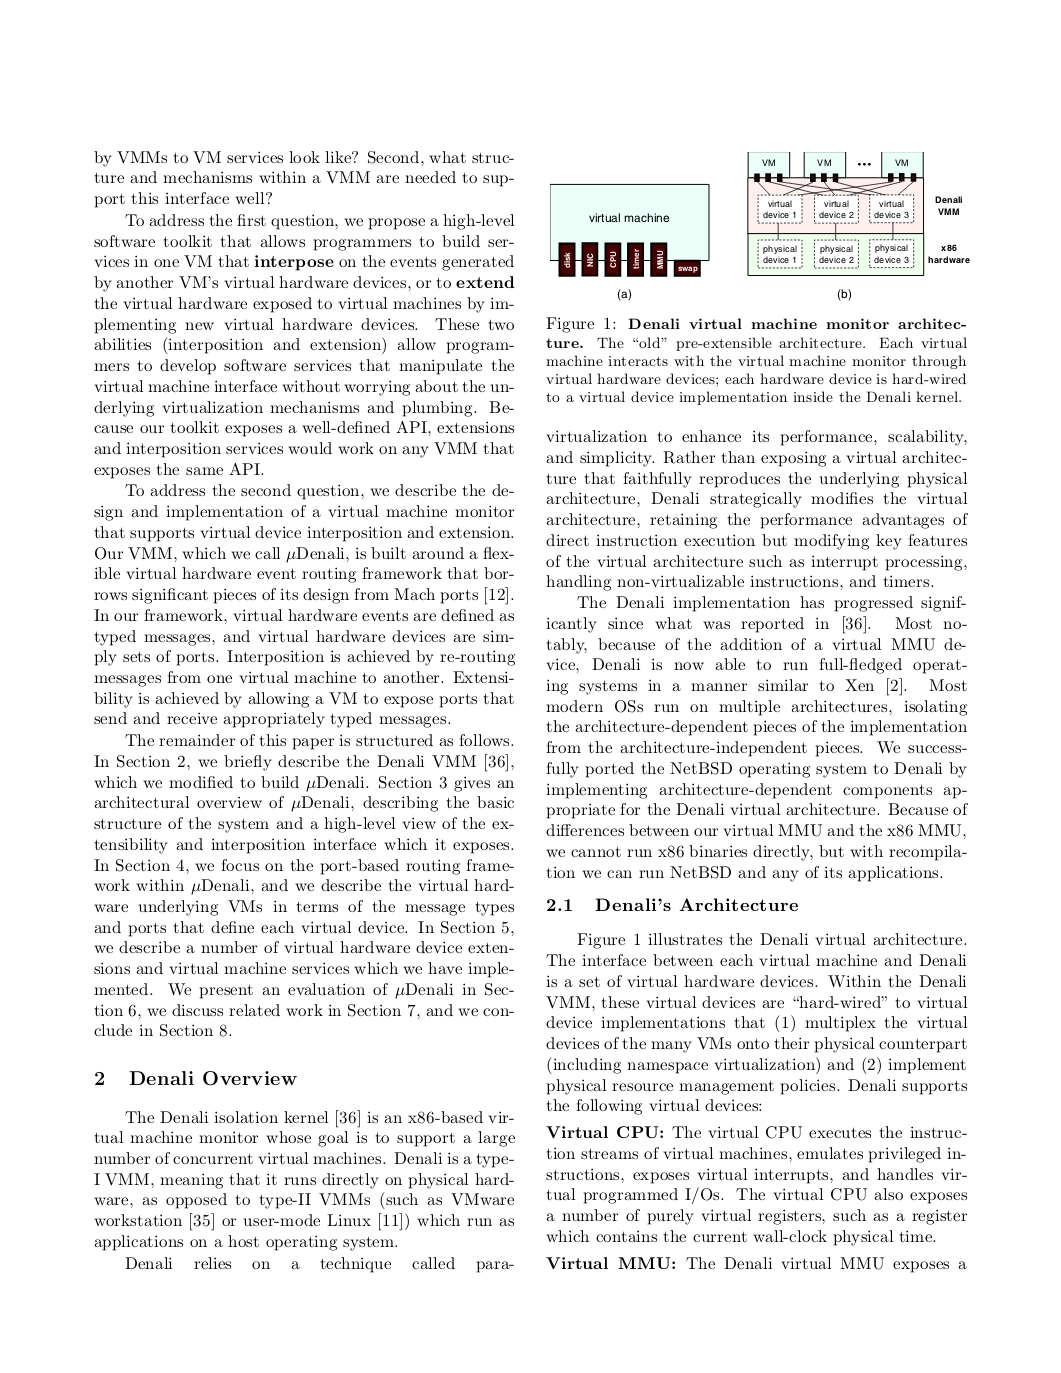figure: (747, 152, 968, 275), (549, 183, 709, 276)
